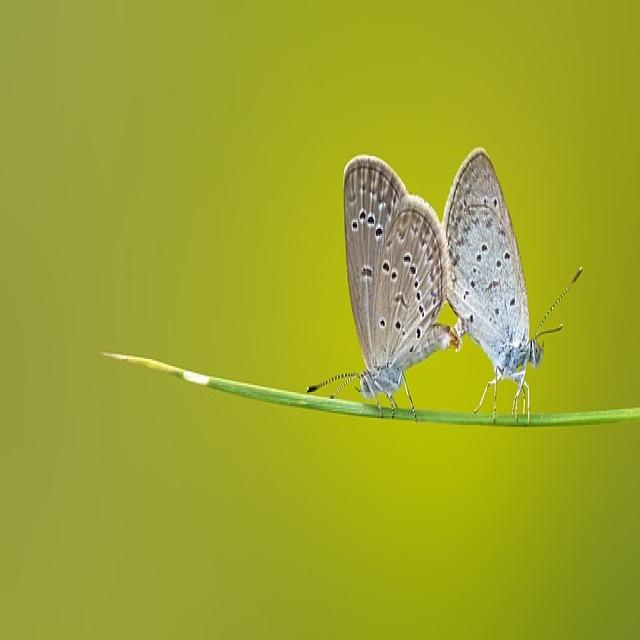butterfly: (344, 156, 458, 399), (444, 150, 542, 413)
